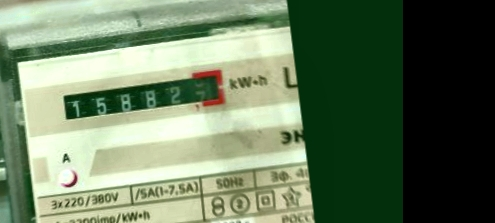1: (70, 99, 81, 118)
2: (167, 84, 182, 105)
5: (91, 95, 108, 116)
7: (192, 88, 206, 101)
8: (142, 87, 157, 109), (118, 91, 132, 112)
screen: (56, 67, 229, 128)
